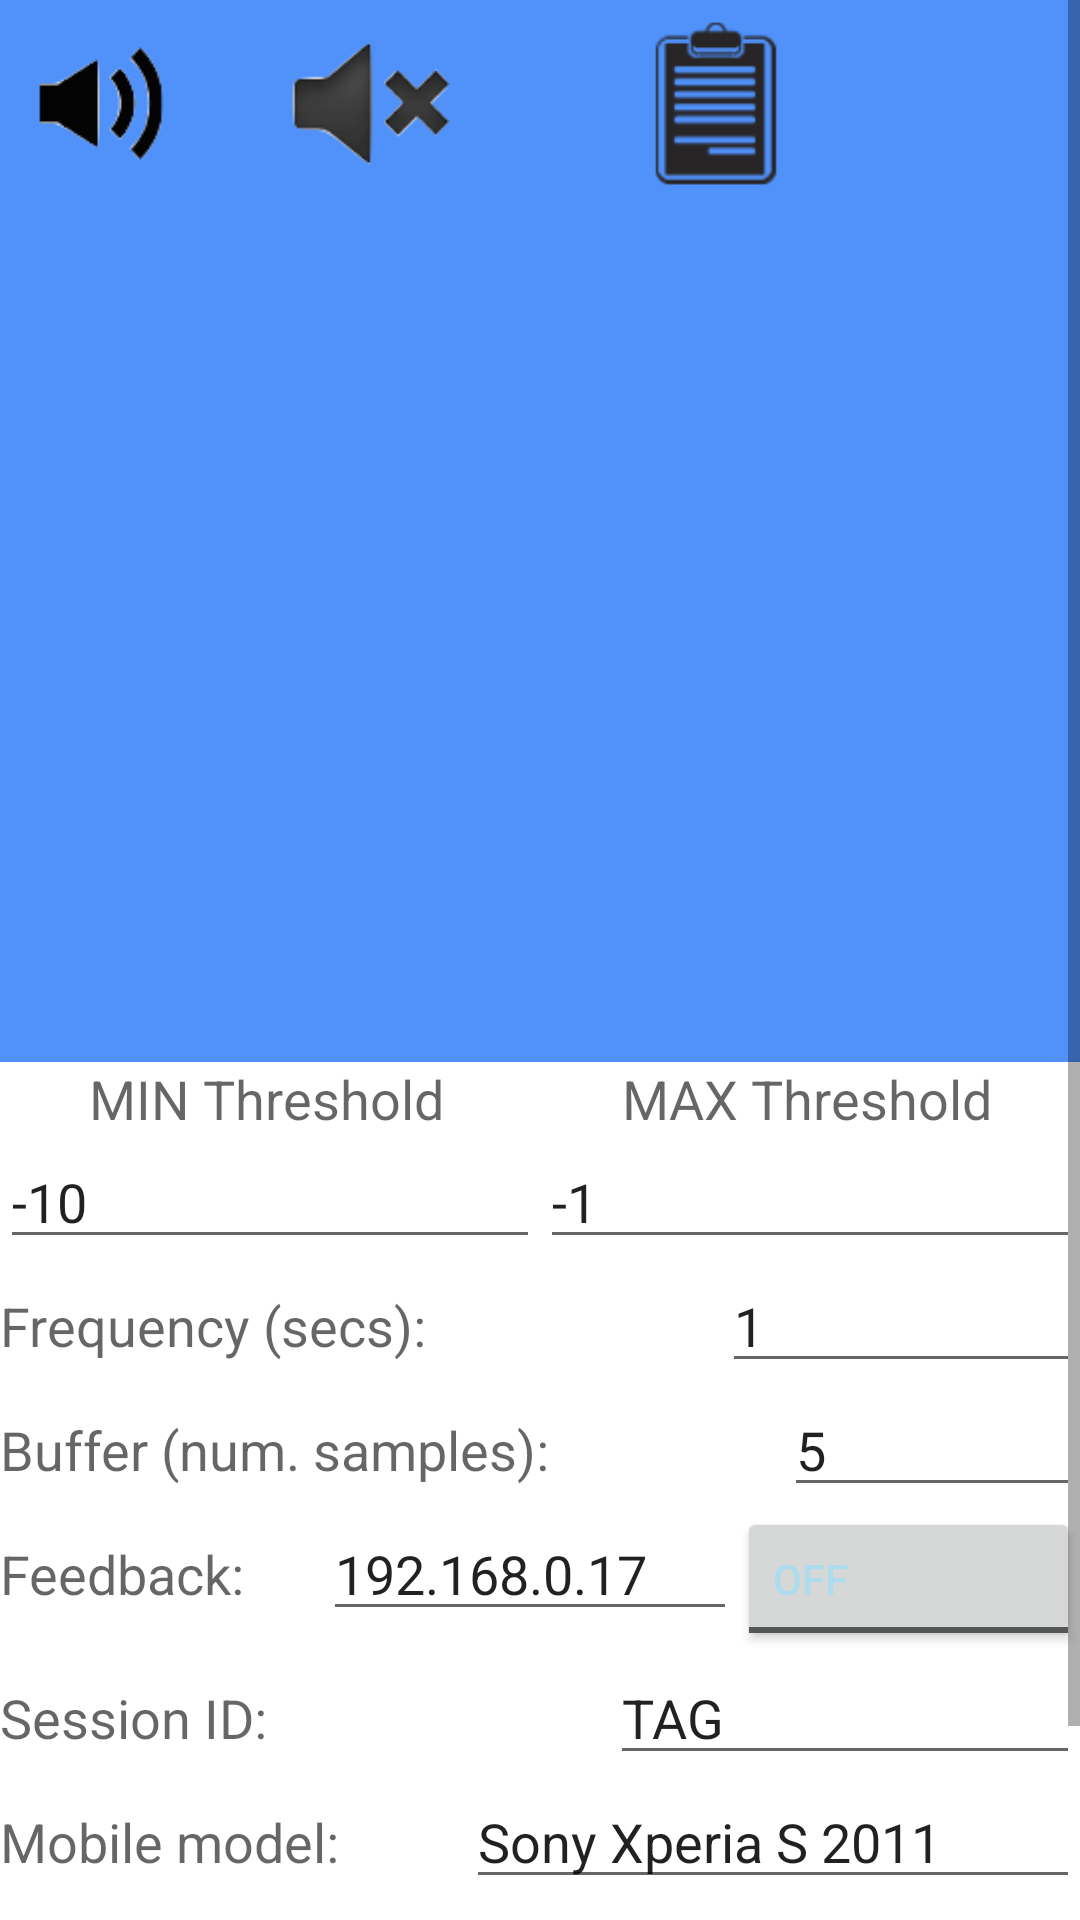

Icons on this 1080px×1920px Android screen, each with the point to tap as (x,y):
mute: (371,103)
unmute: (101,103)
